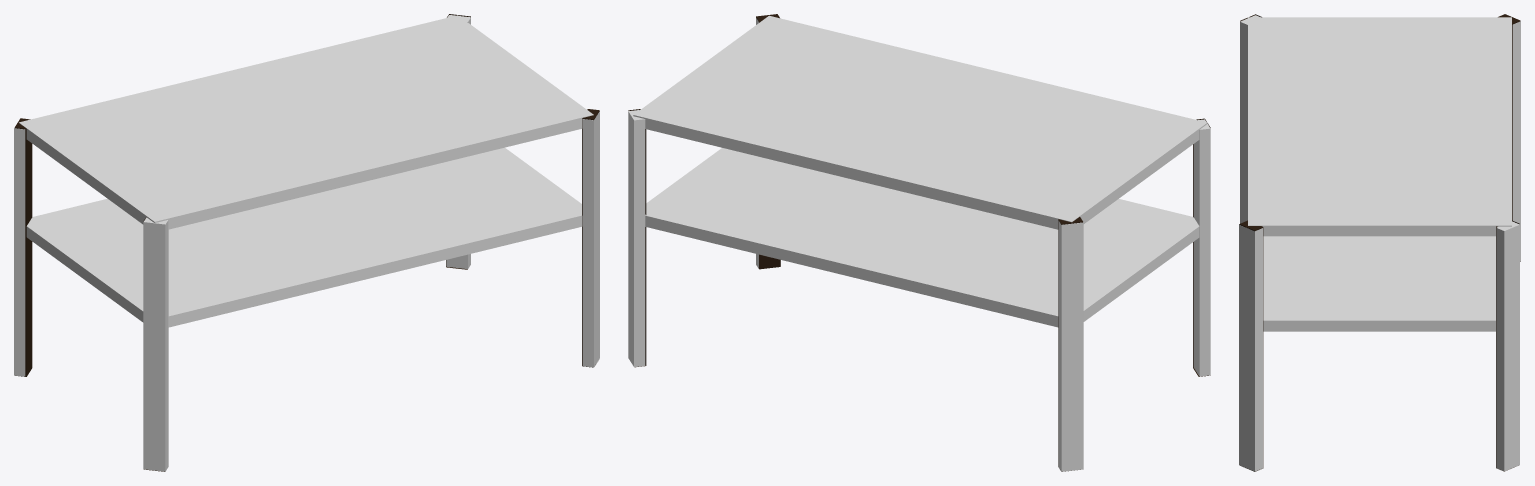
File: coffee_table.fbx
The picture shows the model from 3 angles, left to right: view 1: azimuth 30°, elevation 25°; view 2: azimuth 150°, elevation 25°; view 3: azimuth 270°, elevation 25°; orthographic projection. The views are drawn at different scales.
Visible parts, largest first — view 1: Cube.005, Cube, Cube.001, Cube.002, Cube.003, coffee_table; view 2: Cube.005, Cube, Cube.003, Cube.004, Cube.001, coffee_table; view 3: Cube.005, Cube, Cube.004, Cube.002, Cube.003, Cube.001, coffee_table.
Part boxes in pixels (x1,y1,x2,y2): Cube.005: [18, 15, 593, 229]; Cube: [26, 147, 582, 327]; Cube.001: [143, 217, 168, 471]; Cube.002: [582, 111, 599, 367]; Cube.003: [14, 128, 25, 376]; coffee_table: [14, 14, 599, 471]; Cube.005: [633, 15, 1207, 229]; Cube: [645, 148, 1199, 327]; Cube.003: [1058, 221, 1083, 471]; Cube.004: [628, 110, 645, 367]; Cube.001: [1193, 119, 1210, 376]; coffee_table: [628, 14, 1210, 471]; Cube.005: [1248, 17, 1511, 236]; Cube: [1263, 236, 1495, 331]; Cube.004: [1496, 221, 1519, 471]; Cube.002: [1239, 225, 1262, 471]; Cube.003: [1512, 21, 1520, 261]; Cube.001: [1240, 15, 1260, 223]; coffee_table: [1239, 14, 1520, 471].
Bounding box in the file's own units: 1.47 × 0.7642 × 0.8065.
